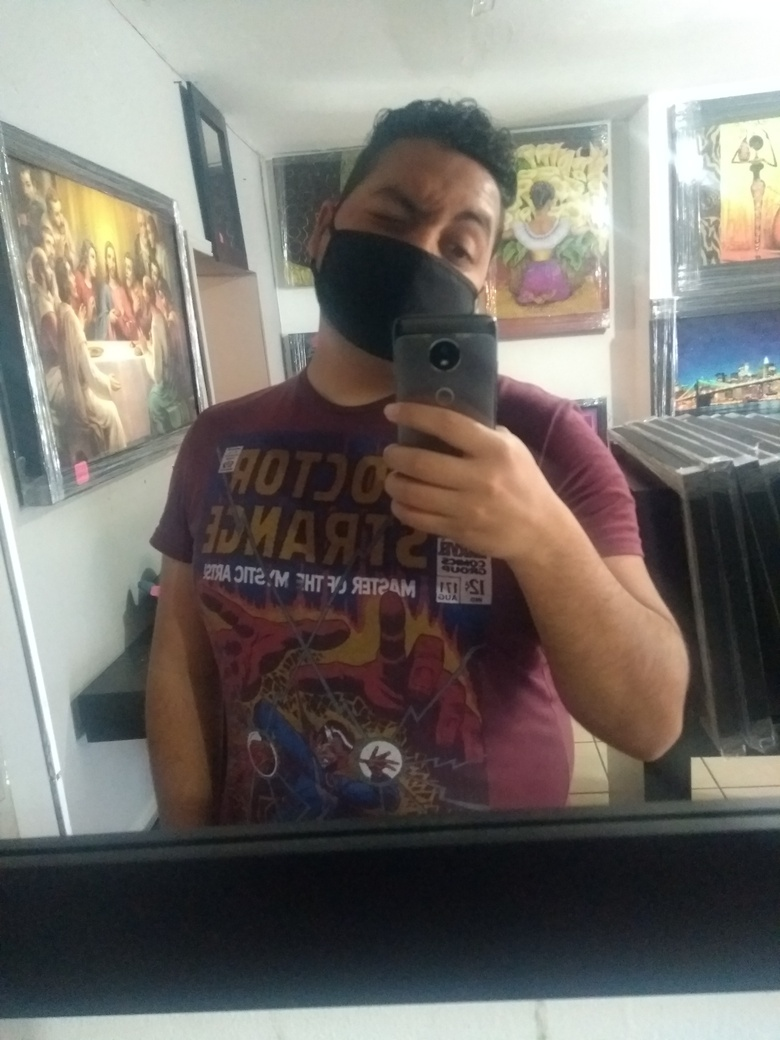Yoshi: (300, 57, 560, 387)
